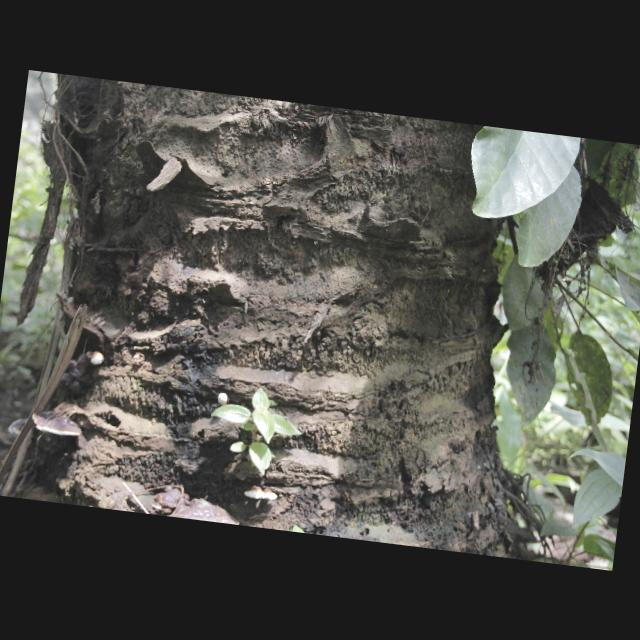ganoderma: (166, 496, 242, 527), (59, 348, 93, 399), (30, 408, 85, 439), (151, 484, 191, 516), (244, 486, 279, 503), (8, 417, 29, 438)
primordium: (90, 351, 106, 367), (217, 392, 231, 407)
